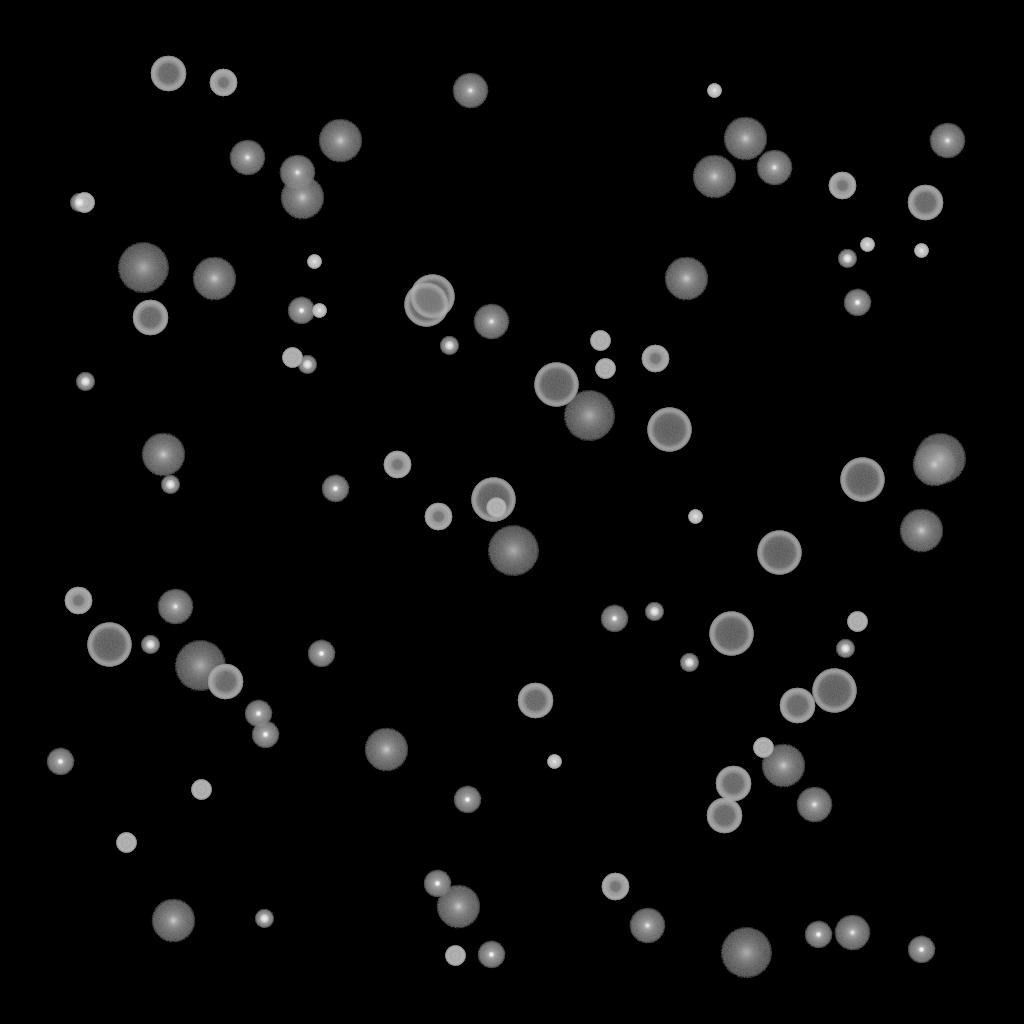depth:-10: (321, 475, 349, 503), (287, 297, 315, 325), (307, 640, 335, 668), (477, 941, 505, 969), (907, 936, 935, 964), (453, 786, 481, 814), (244, 700, 272, 728), (843, 289, 871, 317), (600, 605, 628, 633), (251, 721, 279, 749), (423, 870, 451, 898), (46, 748, 74, 776), (804, 921, 832, 949)
depth:-20: (298, 356, 316, 374), (645, 603, 663, 621), (141, 636, 159, 654), (838, 250, 856, 268), (680, 654, 698, 672), (76, 373, 94, 391), (70, 194, 88, 212), (255, 910, 273, 928), (440, 337, 458, 355), (836, 640, 854, 658), (161, 476, 179, 494)
depth:-30: (860, 238, 874, 252), (688, 510, 702, 524), (914, 244, 928, 258), (307, 255, 321, 269), (312, 304, 326, 318), (547, 755, 561, 769), (707, 84, 721, 98)
depth:-40: (847, 612, 867, 632), (116, 833, 136, 853), (191, 780, 211, 800), (595, 359, 615, 379), (486, 498, 506, 518), (74, 193, 94, 213), (282, 348, 302, 368), (590, 331, 610, 351), (753, 738, 773, 758), (445, 946, 465, 966)
depth:-50: (828, 172, 856, 200), (641, 345, 669, 373), (64, 587, 92, 615), (601, 873, 629, 901), (424, 503, 452, 531), (209, 69, 237, 97), (383, 451, 411, 479)
depth:-60: (207, 664, 243, 700), (907, 185, 943, 221), (517, 683, 553, 719), (706, 798, 742, 834), (150, 56, 186, 92), (779, 688, 815, 724), (132, 300, 168, 336), (715, 766, 751, 802)
depth:-70: (410, 275, 454, 319), (87, 623, 131, 667), (404, 283, 448, 327), (471, 478, 515, 522), (709, 612, 753, 656), (840, 458, 884, 502), (757, 531, 801, 575), (812, 669, 856, 713), (647, 408, 691, 452), (534, 363, 578, 407)
depth:0: (452, 73, 488, 109), (756, 150, 792, 186), (157, 589, 193, 625), (473, 304, 509, 340), (834, 915, 870, 951), (929, 123, 965, 159), (629, 908, 665, 944), (279, 155, 315, 191), (796, 787, 832, 823), (229, 140, 265, 176)
depth:10: (364, 728, 408, 772), (318, 119, 362, 163), (899, 509, 943, 553), (692, 155, 736, 199), (151, 899, 195, 943), (723, 117, 767, 161), (141, 433, 185, 477), (436, 885, 480, 929), (280, 176, 324, 220), (192, 257, 236, 301), (761, 744, 805, 788), (912, 443, 956, 487), (664, 257, 708, 301)
depth:20: (174, 641, 226, 691), (720, 928, 772, 978), (117, 243, 169, 293), (914, 434, 966, 484), (487, 526, 539, 576), (563, 391, 615, 441)
